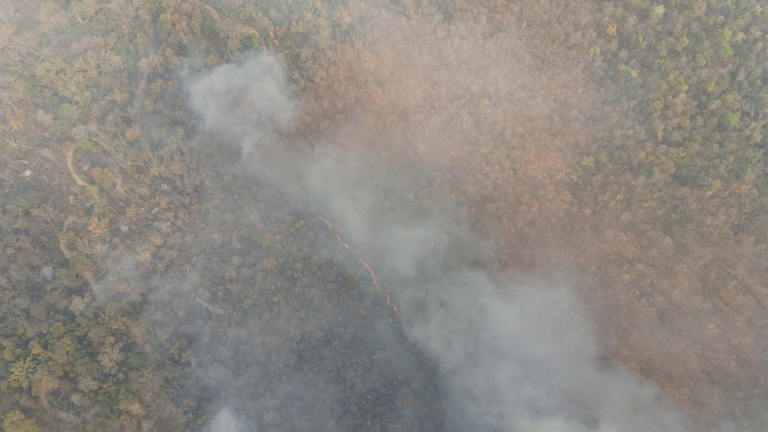fire: (314, 213, 403, 331)
smoke: (181, 54, 413, 259), (424, 270, 633, 432)
